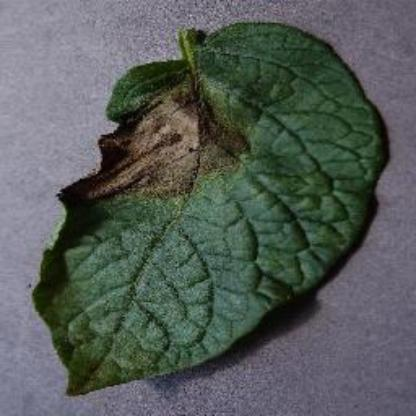Late-Blight: (26, 13, 392, 407)
